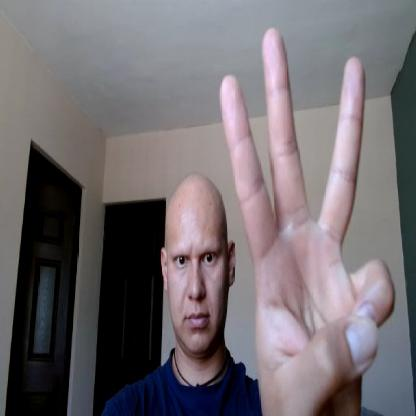W: (217, 23, 397, 416)
